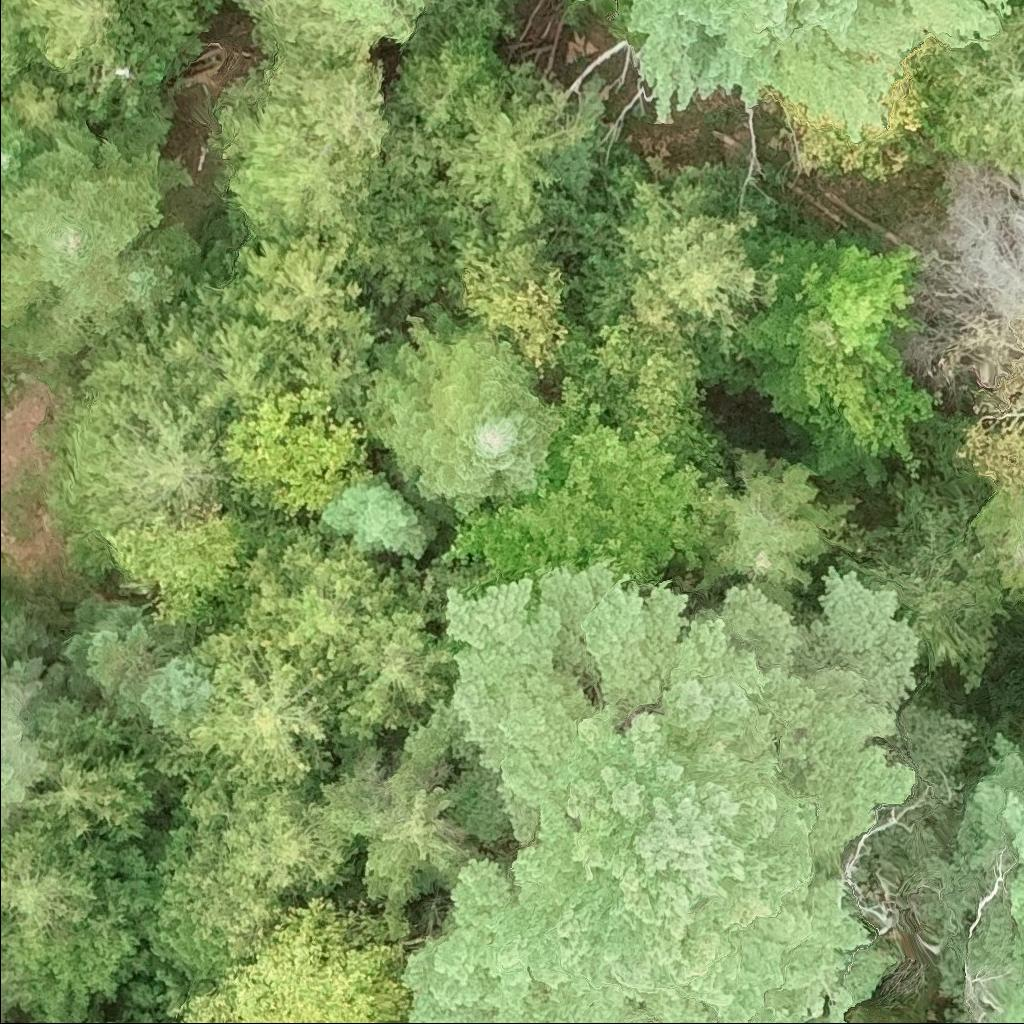crown: (404, 561, 917, 1023), (62, 308, 286, 576), (626, 0, 1015, 144), (441, 420, 709, 625), (364, 311, 571, 521), (762, 232, 936, 477), (0, 134, 178, 356), (321, 695, 482, 939), (159, 622, 332, 831), (169, 890, 415, 1023), (174, 792, 368, 959), (218, 59, 387, 240), (610, 183, 783, 358), (567, 309, 723, 485), (0, 807, 136, 1005), (58, 593, 213, 742), (208, 228, 375, 361), (236, 531, 400, 666), (706, 450, 852, 598), (439, 101, 589, 238), (104, 502, 252, 628), (326, 602, 464, 736), (960, 730, 1023, 1023), (227, 388, 369, 516), (457, 230, 569, 382), (931, 153, 1023, 332), (33, 711, 151, 841), (0, 654, 84, 831), (943, 3, 1023, 179), (0, 82, 102, 193), (232, 0, 368, 72), (17, 0, 134, 79), (744, 289, 810, 421), (323, 481, 434, 558), (976, 486, 1023, 598), (974, 430, 1023, 487), (0, 14, 32, 91), (1012, 0, 1023, 5)
